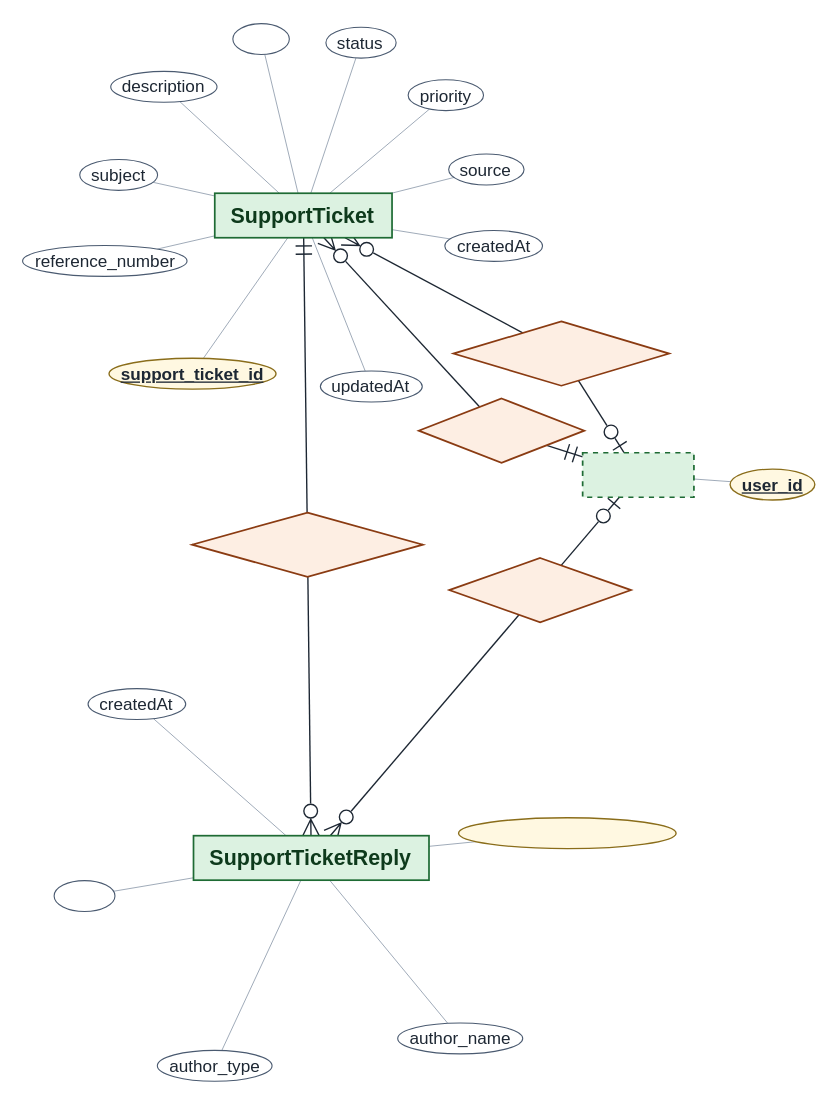
The diagram is 840 pixels wide and 1105 high, and some of its shapes have lost their labels. Here are the shapes that lost their labels. From the top down, the box of each, then its label:
(232, 22, 289, 54): type
(452, 320, 670, 386): ASSIGNED_TICKET
(417, 397, 585, 463): FILES_TICKET
(581, 451, 694, 498): User
(191, 511, 423, 577): TICKET_HAS_REPLY
(448, 557, 631, 623): WRITES_REPLY
(457, 816, 676, 849): support_ticket_reply_id
(53, 879, 115, 911): body
